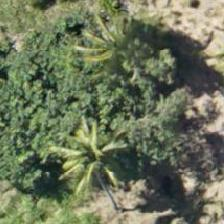coconut_tree: (46, 107, 136, 197), (51, 0, 141, 90)
